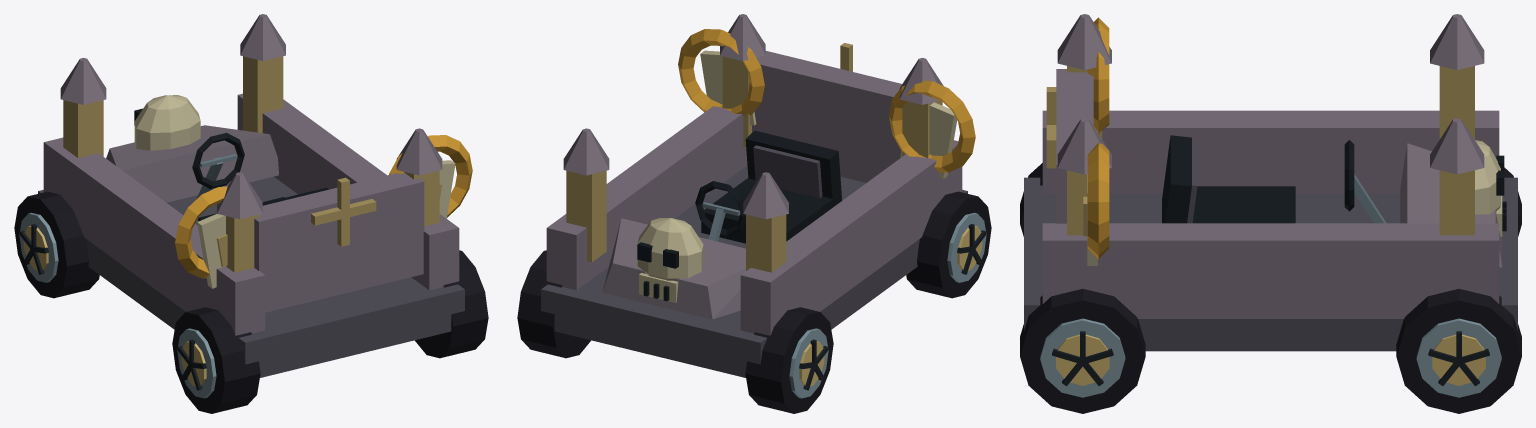
The model's file is kart.glb.
3 views of the same model, side by side, from view 1: azimuth 30°, elevation 25°; view 2: azimuth 150°, elevation 25°; view 3: azimuth 270°, elevation 25° (orthographic). The views are drawn at different scales.
Parts seen in each view (by area): view 1: identity-reliquary-reliquary-arched-stone-chest, wheel-rear-left, wheel-front-left, identity-reliquary-motif-ring, wheel-rear-right, identity-reliquary-motif-skull, identity-reliquary-motif-cards, identity-reliquary-driver-cockpit; view 2: identity-reliquary-reliquary-arched-stone-chest, identity-reliquary-driver-cockpit, wheel-front-left, wheel-rear-left, identity-reliquary-motif-ring, identity-reliquary-motif-skull, wheel-front-right, identity-reliquary-motif-cards; view 3: identity-reliquary-reliquary-arched-stone-chest, wheel-front-right, wheel-rear-right, identity-reliquary-driver-cockpit, identity-reliquary-motif-ring, identity-reliquary-motif-skull.
Boxes of the visible parts, left/top/right/bottom form: identity-reliquary-reliquary-arched-stone-chest: left=38, top=14, right=464, bottom=377; wheel-rear-left: left=172, top=307, right=260, bottom=413; wheel-front-left: left=14, top=191, right=99, bottom=298; identity-reliquary-motif-ring: left=175, top=135, right=472, bottom=278; wheel-rear-right: left=415, top=250, right=488, bottom=358; identity-reliquary-motif-skull: left=134, top=95, right=200, bottom=150; identity-reliquary-motif-cards: left=197, top=160, right=455, bottom=288; identity-reliquary-driver-cockpit: left=192, top=132, right=329, bottom=221; identity-reliquary-reliquary-arched-stone-chest: left=541, top=14, right=967, bottom=377; identity-reliquary-driver-cockpit: left=695, top=130, right=841, bottom=243; wheel-front-left: left=745, top=307, right=833, bottom=413; wheel-rear-left: left=906, top=191, right=991, bottom=298; identity-reliquary-motif-ring: left=678, top=29, right=975, bottom=172; identity-reliquary-motif-skull: left=637, top=218, right=703, bottom=302; wheel-front-right: left=517, top=250, right=590, bottom=358; identity-reliquary-motif-cards: left=700, top=50, right=957, bottom=178; identity-reliquary-reliquary-arched-stone-chest: left=1024, top=14, right=1517, bottom=351; wheel-front-right: left=1396, top=288, right=1521, bottom=413; wheel-rear-right: left=1020, top=288, right=1145, bottom=413; identity-reliquary-driver-cockpit: left=1162, top=135, right=1386, bottom=223; identity-reliquary-motif-ring: left=1087, top=17, right=1109, bottom=258; identity-reliquary-motif-skull: left=1475, top=140, right=1506, bottom=236.
Bounding box in the file's own units: 2.09 × 1.51 × 2.56.
